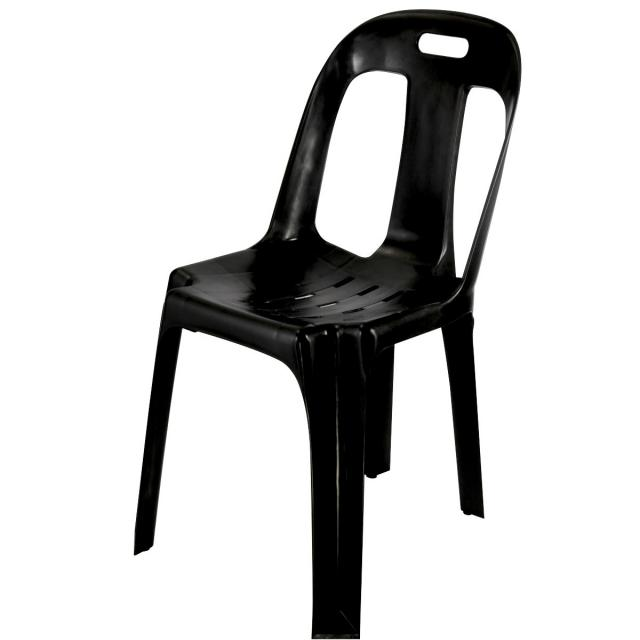Chair: (100, 6, 526, 640)
